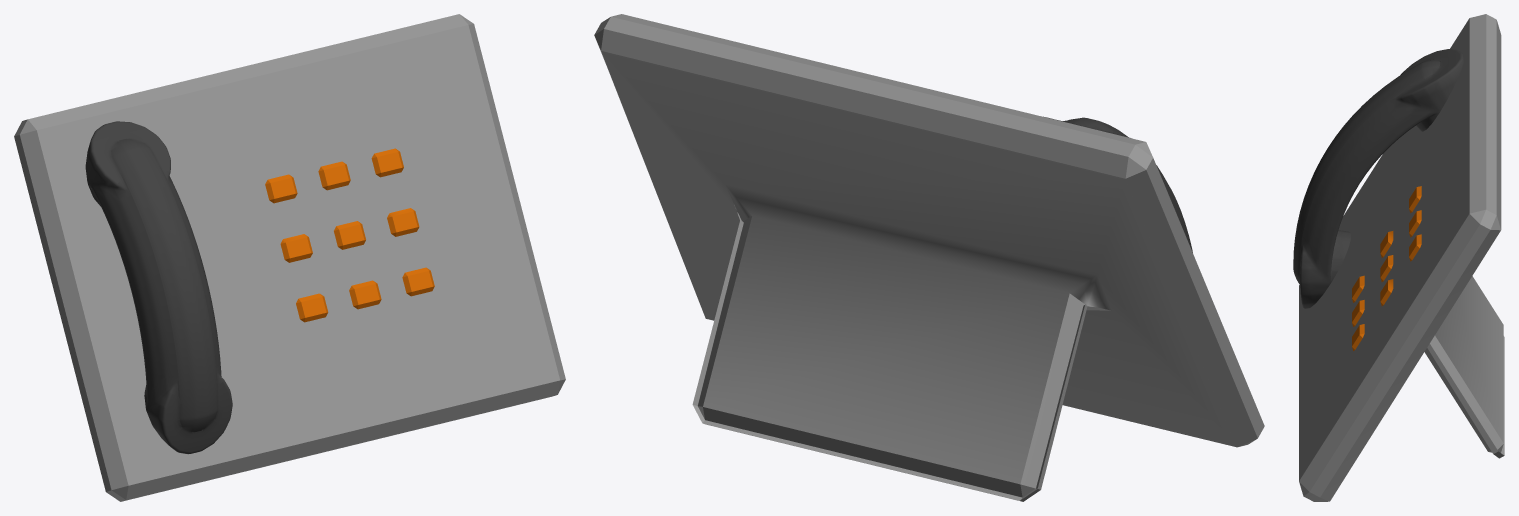
The model's file is FullPhone.FBX.
3 renders of one model, left to right at view 1: azimuth 30°, elevation 25°; view 2: azimuth 150°, elevation 25°; view 3: azimuth 270°, elevation 25°, orthographic. The views are drawn at different scales.
Parts seen in each view (by area): view 1: Base, Phone, Buttons; view 2: Base, Phone; view 3: Base, Phone, Buttons.
Boxes of the visible parts, x1,y1,x2,y2 form: Base: [14, 14, 565, 501]; Phone: [85, 121, 232, 454]; Buttons: [265, 148, 434, 322]; Base: [594, 14, 1264, 501]; Phone: [1043, 116, 1192, 252]; Base: [1299, 14, 1504, 501]; Phone: [1293, 49, 1463, 308]; Buttons: [1352, 186, 1421, 350].
Size of the model in its own units: 64 by 42.37 by 27.75.
